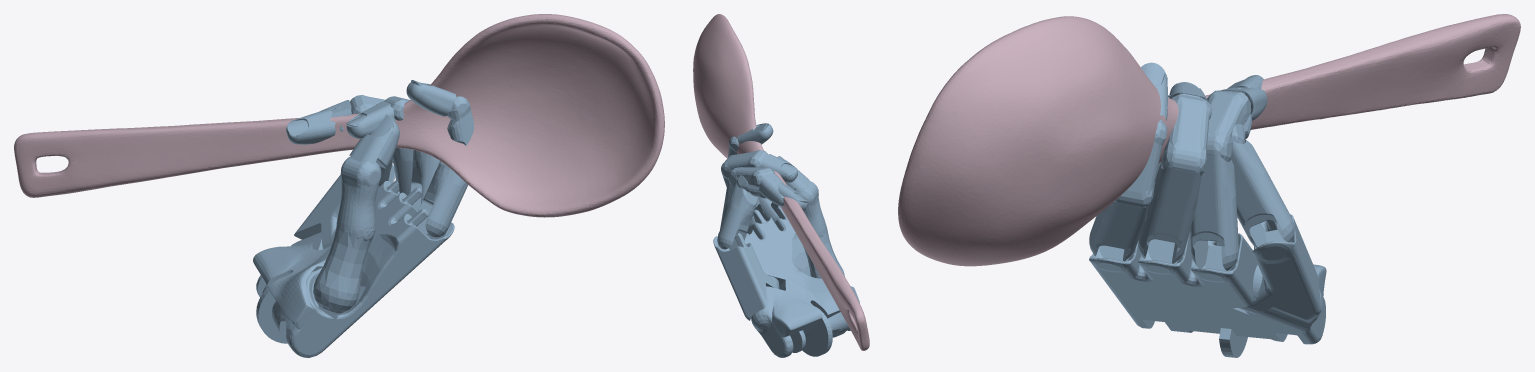
3 views of the same model, side by side, from view 1: azimuth 30°, elevation 25°; view 2: azimuth 150°, elevation 25°; view 3: azimuth 270°, elevation 25° (orthographic). The views are drawn at different scales.
Visible parts, largest first — view 1: obj_mesh_grasp_0.obj, world; view 2: world, obj_mesh_grasp_0.obj; view 3: obj_mesh_grasp_0.obj, world.
Boxes of the visible parts, x1=… form: obj_mesh_grasp_0.obj: x1=14, y1=14, x2=664, y2=217; world: x1=253, y1=80, x2=473, y2=357; world: x1=713, y1=123, x2=859, y2=357; obj_mesh_grasp_0.obj: x1=693, y1=14, x2=869, y2=350; obj_mesh_grasp_0.obj: x1=898, y1=14, x2=1520, y2=266; world: x1=1089, y1=62, x2=1326, y2=357.
Bounding box in the file's own units: 0.276 × 0.2073 × 0.2596.
